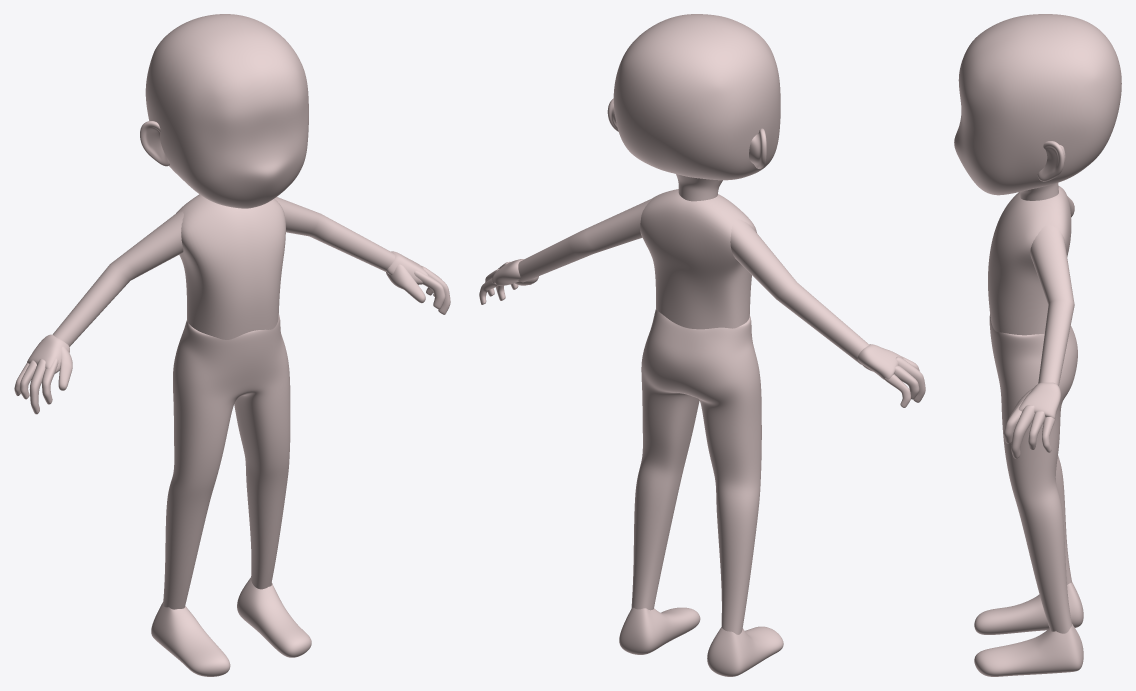
File: character.fbx
The picture shows the model from 3 angles, left to right: view 1: azimuth 30°, elevation 25°; view 2: azimuth 150°, elevation 25°; view 3: azimuth 270°, elevation 25°; orthographic projection. The views are drawn at different scales.
Parts seen in each view (by area): view 1: Cube.016; view 2: Cube.016; view 3: Cube.016.
Boxes of the visible parts, x1,y1,x2,y2 form: Cube.016: (14,14,450,676); Cube.016: (479,14,925,676); Cube.016: (954,14,1121,676).
Bounding box in the file's own units: 100 × 140 × 33.95.
